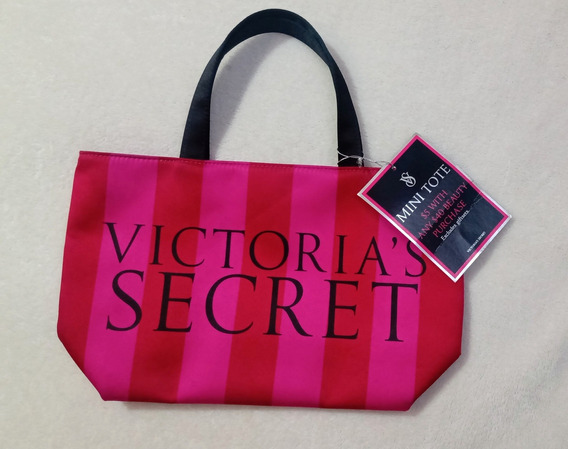cartera: (55, 7, 466, 412)
